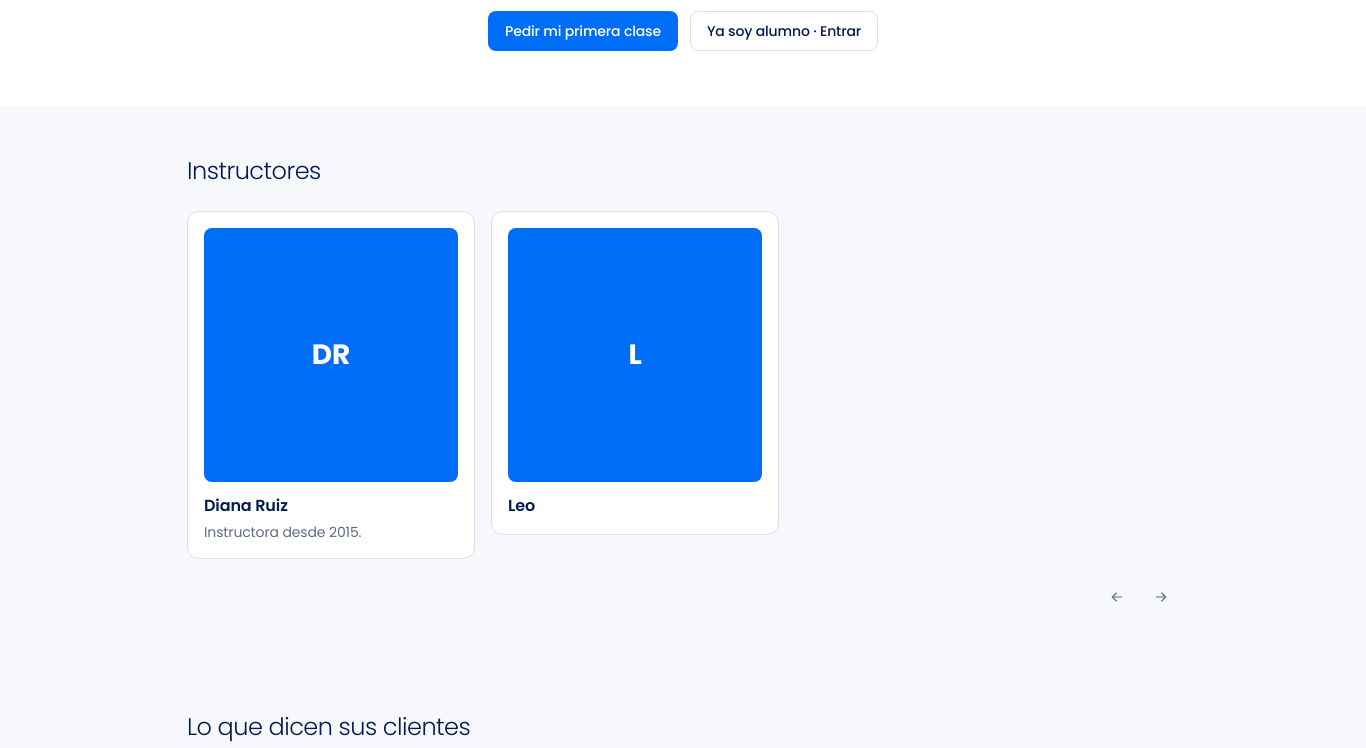
Test: página pública del estudio › el equipo y las reseñas (ADR 0167) › en carrusel, cada integrante abre su ficha con su semblanza y sus próximas clases
(page scrolled)
Click the button "DR Diana Ruiz Instructora desde 2015." at (331, 385), box [187,211,475,559]
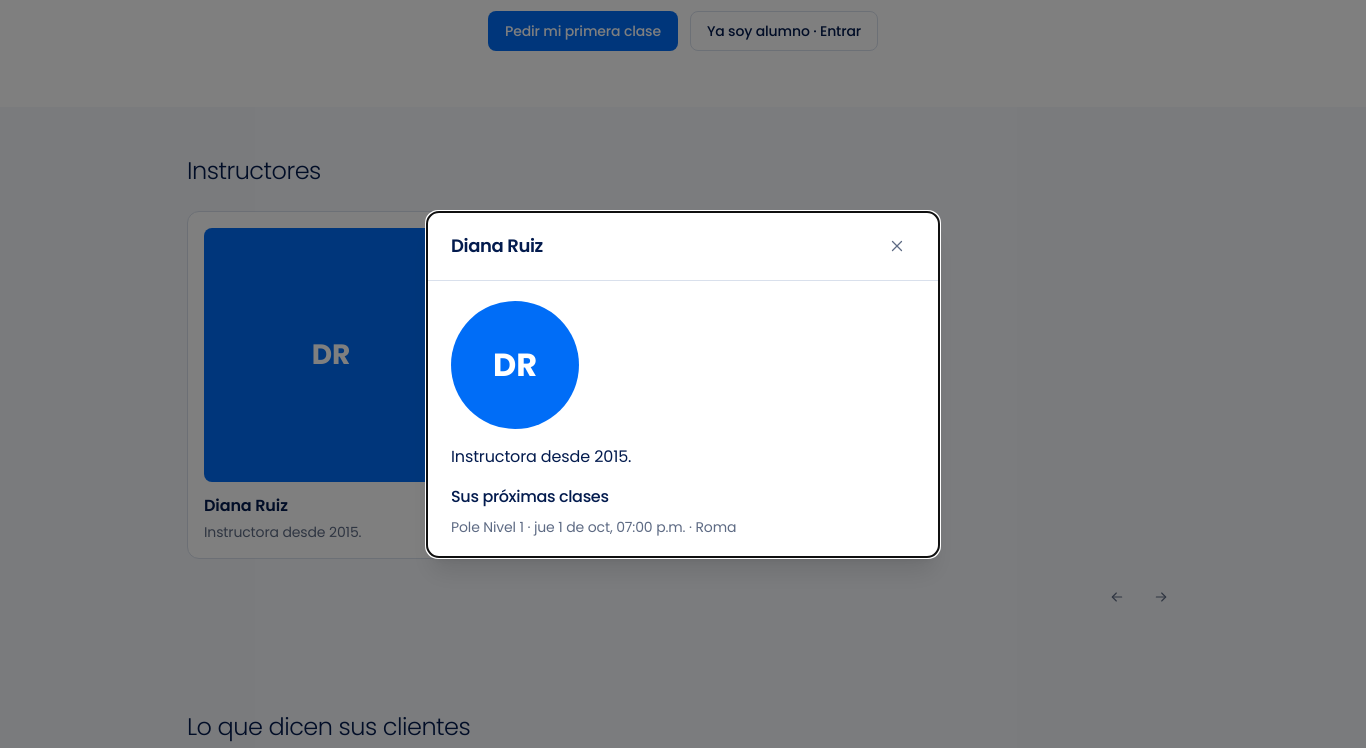
Now the element that starts with "Instructora desde 2015." is shown, box [451,444,631,468]
Now the element that starts with "Instructora desde 2015." shows "Pole Nivel 1", box [451,516,736,536]
